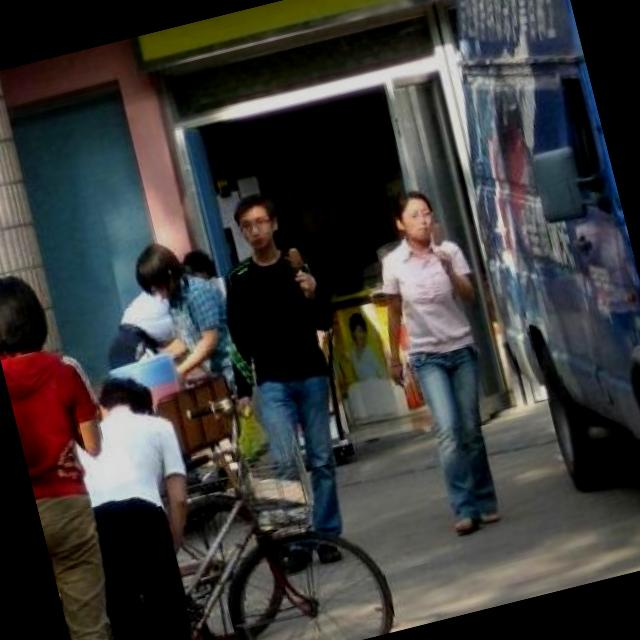Person: (196, 184, 400, 576), (350, 182, 538, 544), (0, 254, 171, 640), (124, 223, 251, 406)
